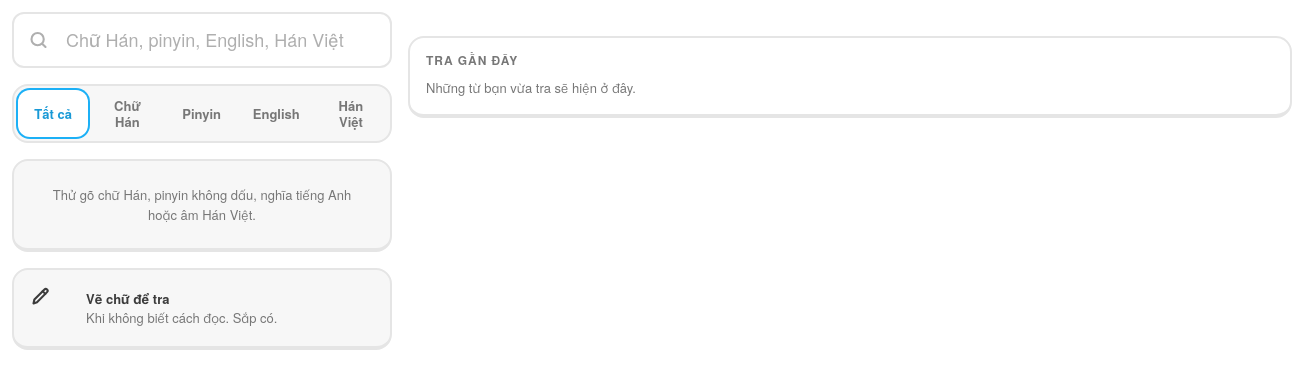
Test case: SearchScreen: tìm kiếm › kết quả là link tới /tu/…, có pinyin, Hán Việt, nghĩa và nhãn HSK
Type "hao" into the search field.
click(202, 40); type("hao")  # box x1=12 y1=12 x2=392 y2=68
Wait 250 ms
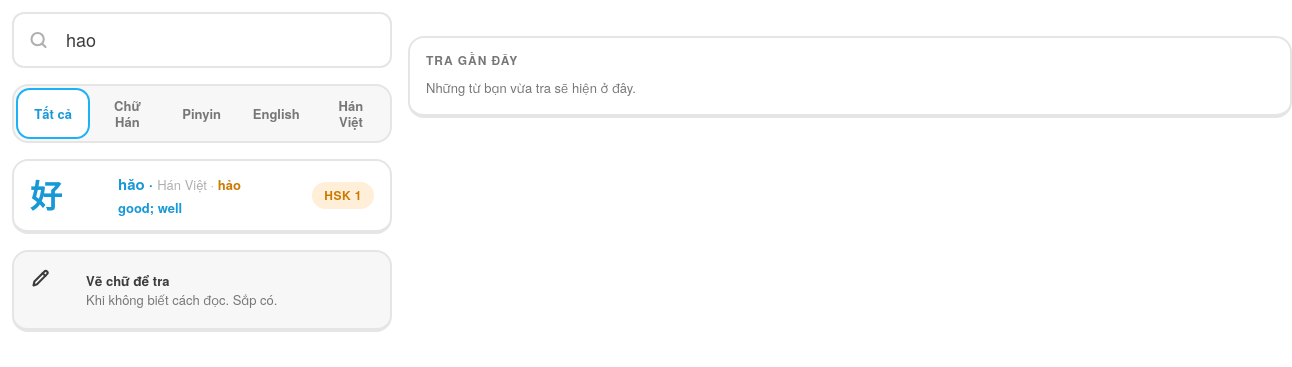
Expected: the link "hǎo" shows "hảo", x1=12 y1=159 x2=392 y2=234
Expected: the link "hǎo" shows "good", x1=12 y1=159 x2=392 y2=234
Expected: the link "hǎo" shows "HSK 1", x1=12 y1=159 x2=392 y2=234
